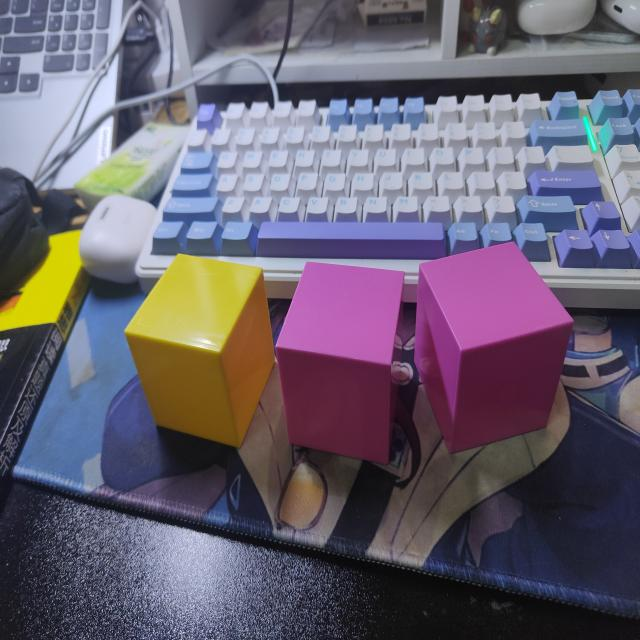pink: (413, 241, 575, 453), (273, 262, 405, 466)
yellow: (124, 255, 276, 452)
